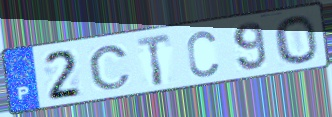2: (41, 49, 82, 103)
9: (231, 20, 268, 73)
C: (87, 44, 134, 92), (185, 29, 221, 80)
O: (272, 14, 321, 65)
T: (135, 32, 173, 88)
